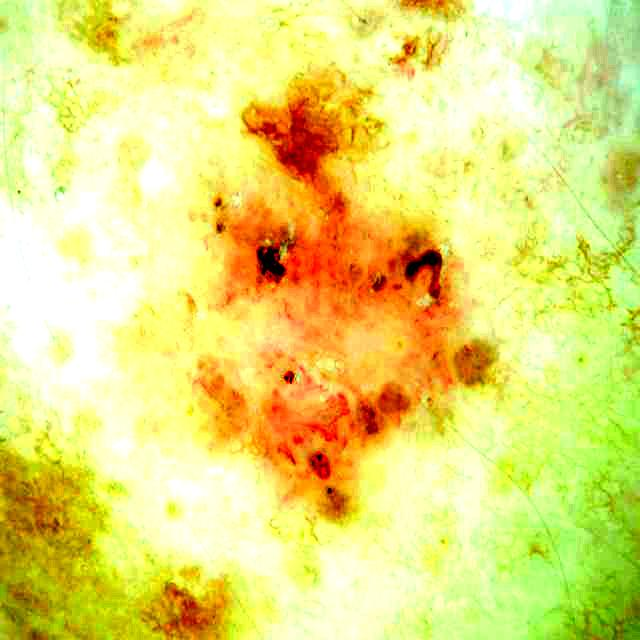BCC: (198, 68, 497, 517)
